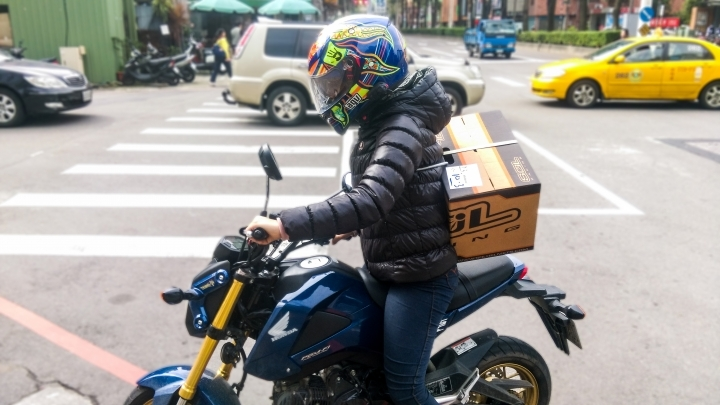helmet: (308, 22, 399, 106)
